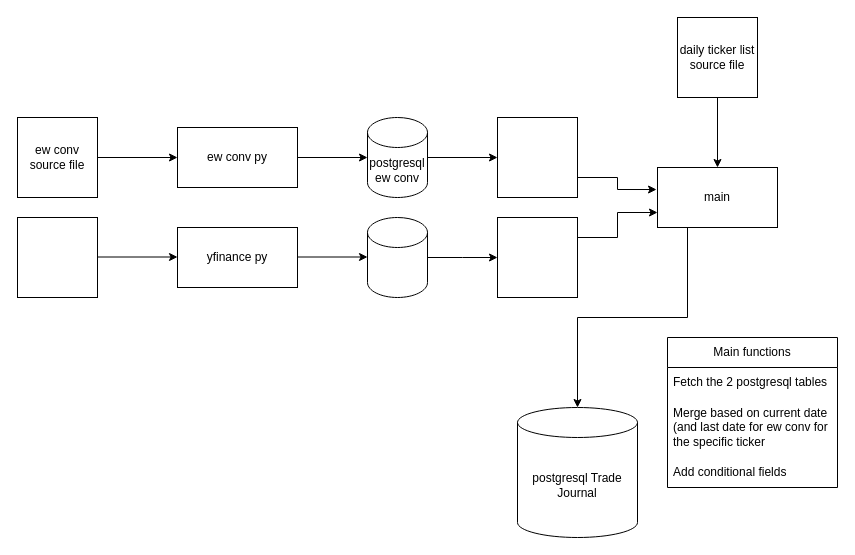
The diagram is 855 pixels wide and 555 high, and some of its shapes have lost their labels. Each missing label, with the centre of its shape:
ew conv out: point 537,157
postgresql yfinance: point 397,257
ticker list source file: point 57,257
yfinance cmp: point 537,257
